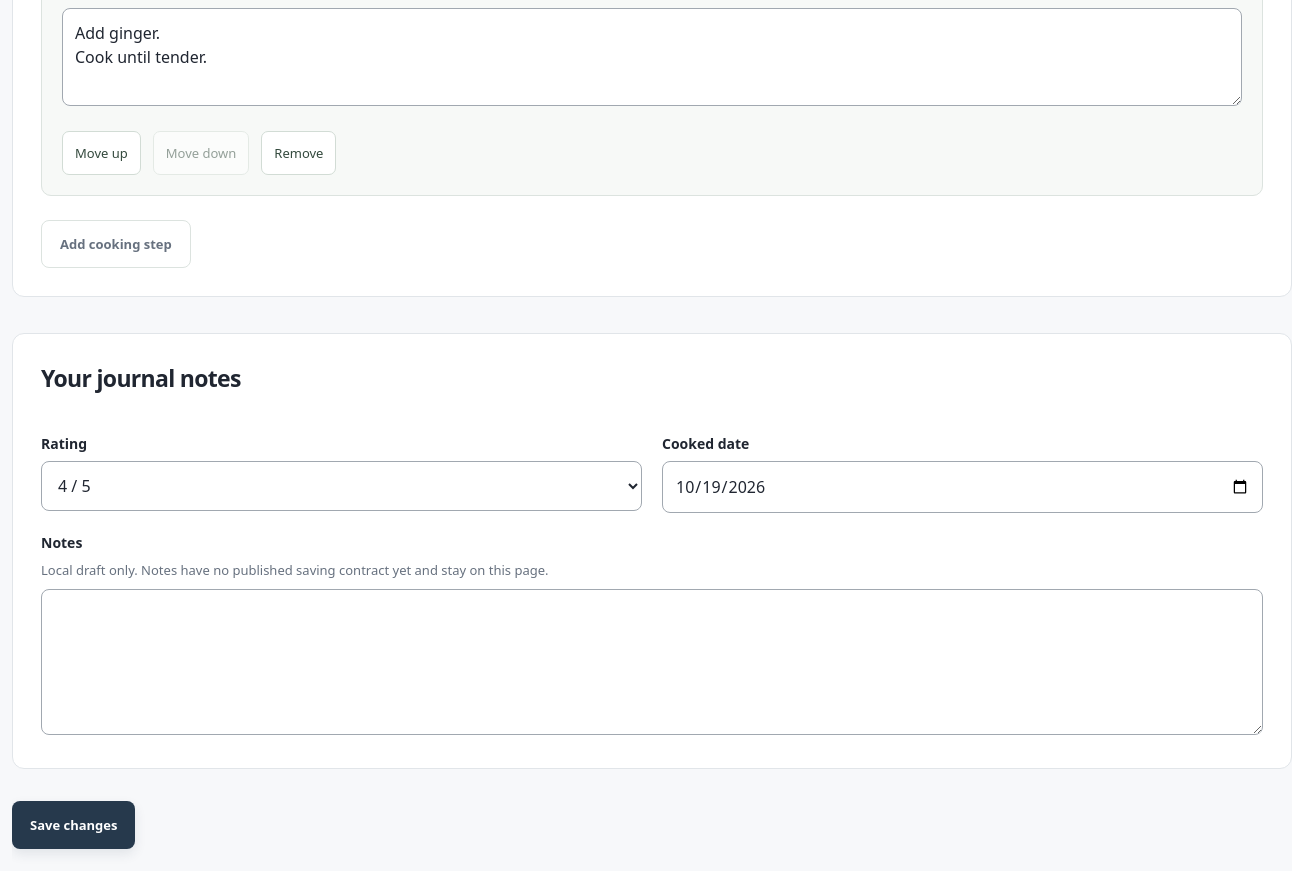
Test case: preserves existing rating and supports updating to unrated
The width and height of the screenshot is (1292, 871).
(page scrolled)
Select "Unrated" in the dropdown labelled "Rating" at (342, 486), box [41, 461, 642, 511]
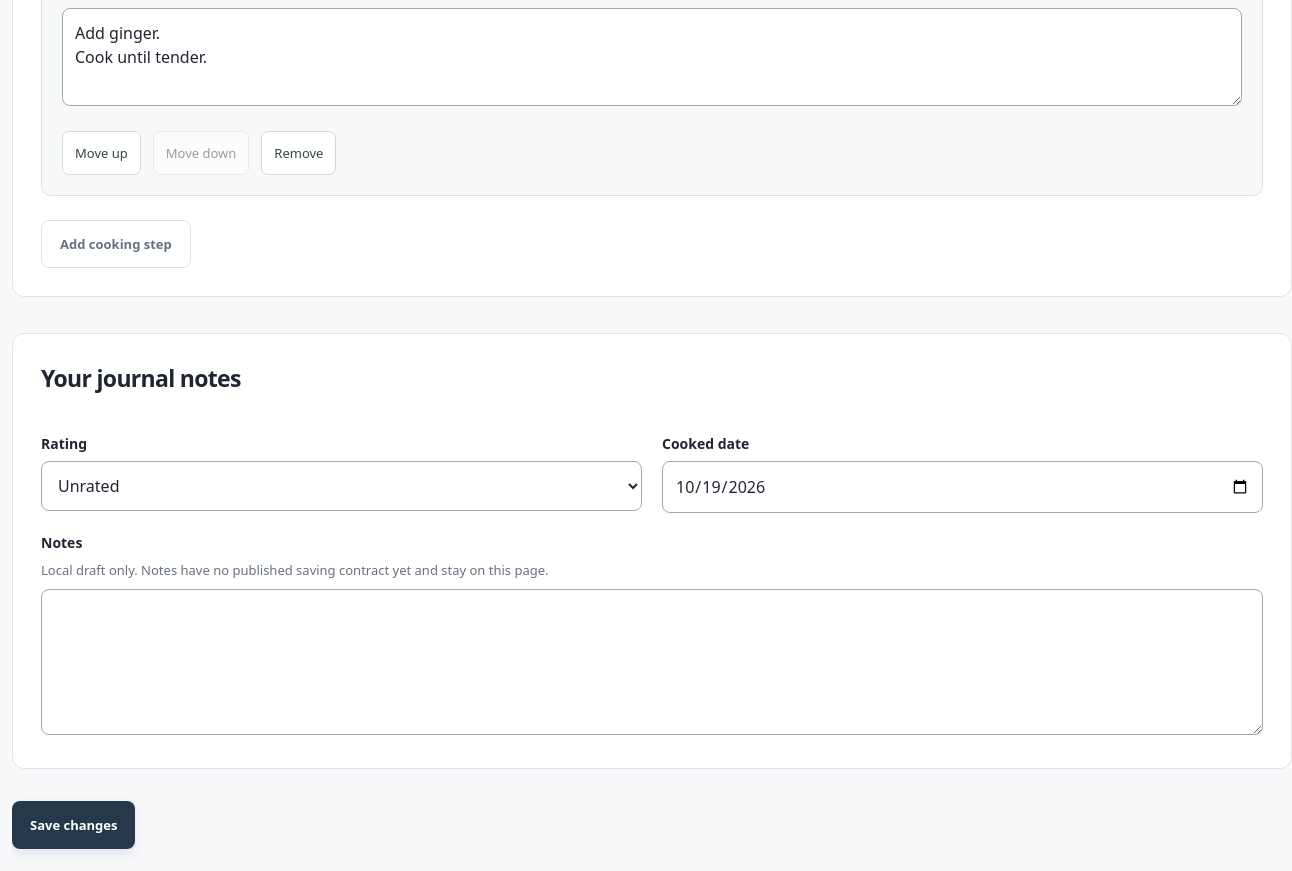
Click the button "Save changes".
click(74, 825)  # box [12, 801, 136, 849]
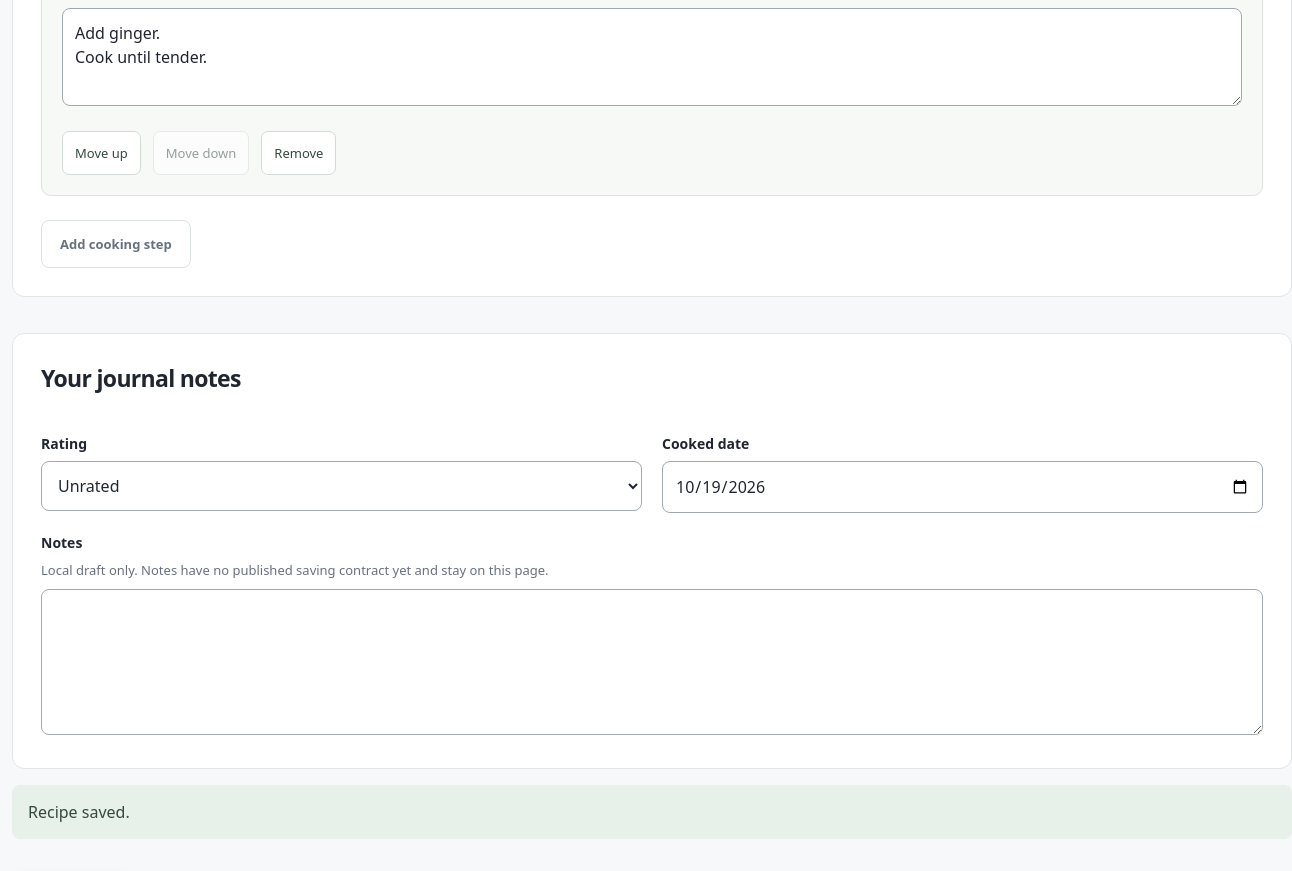
Expected: the text "Recipe saved." is shown, [12, 785, 1291, 839]
